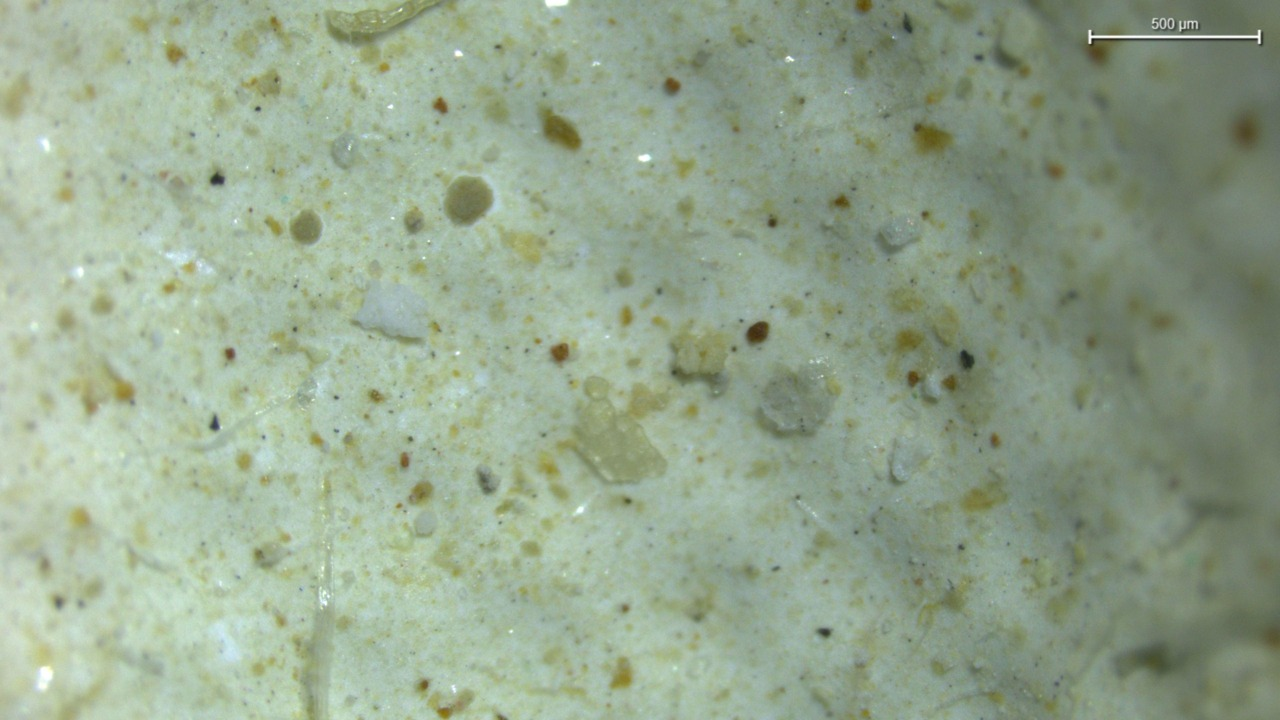microplastic_fragment: (576, 399, 667, 483), (760, 358, 839, 433), (353, 280, 428, 338), (889, 436, 934, 483)
